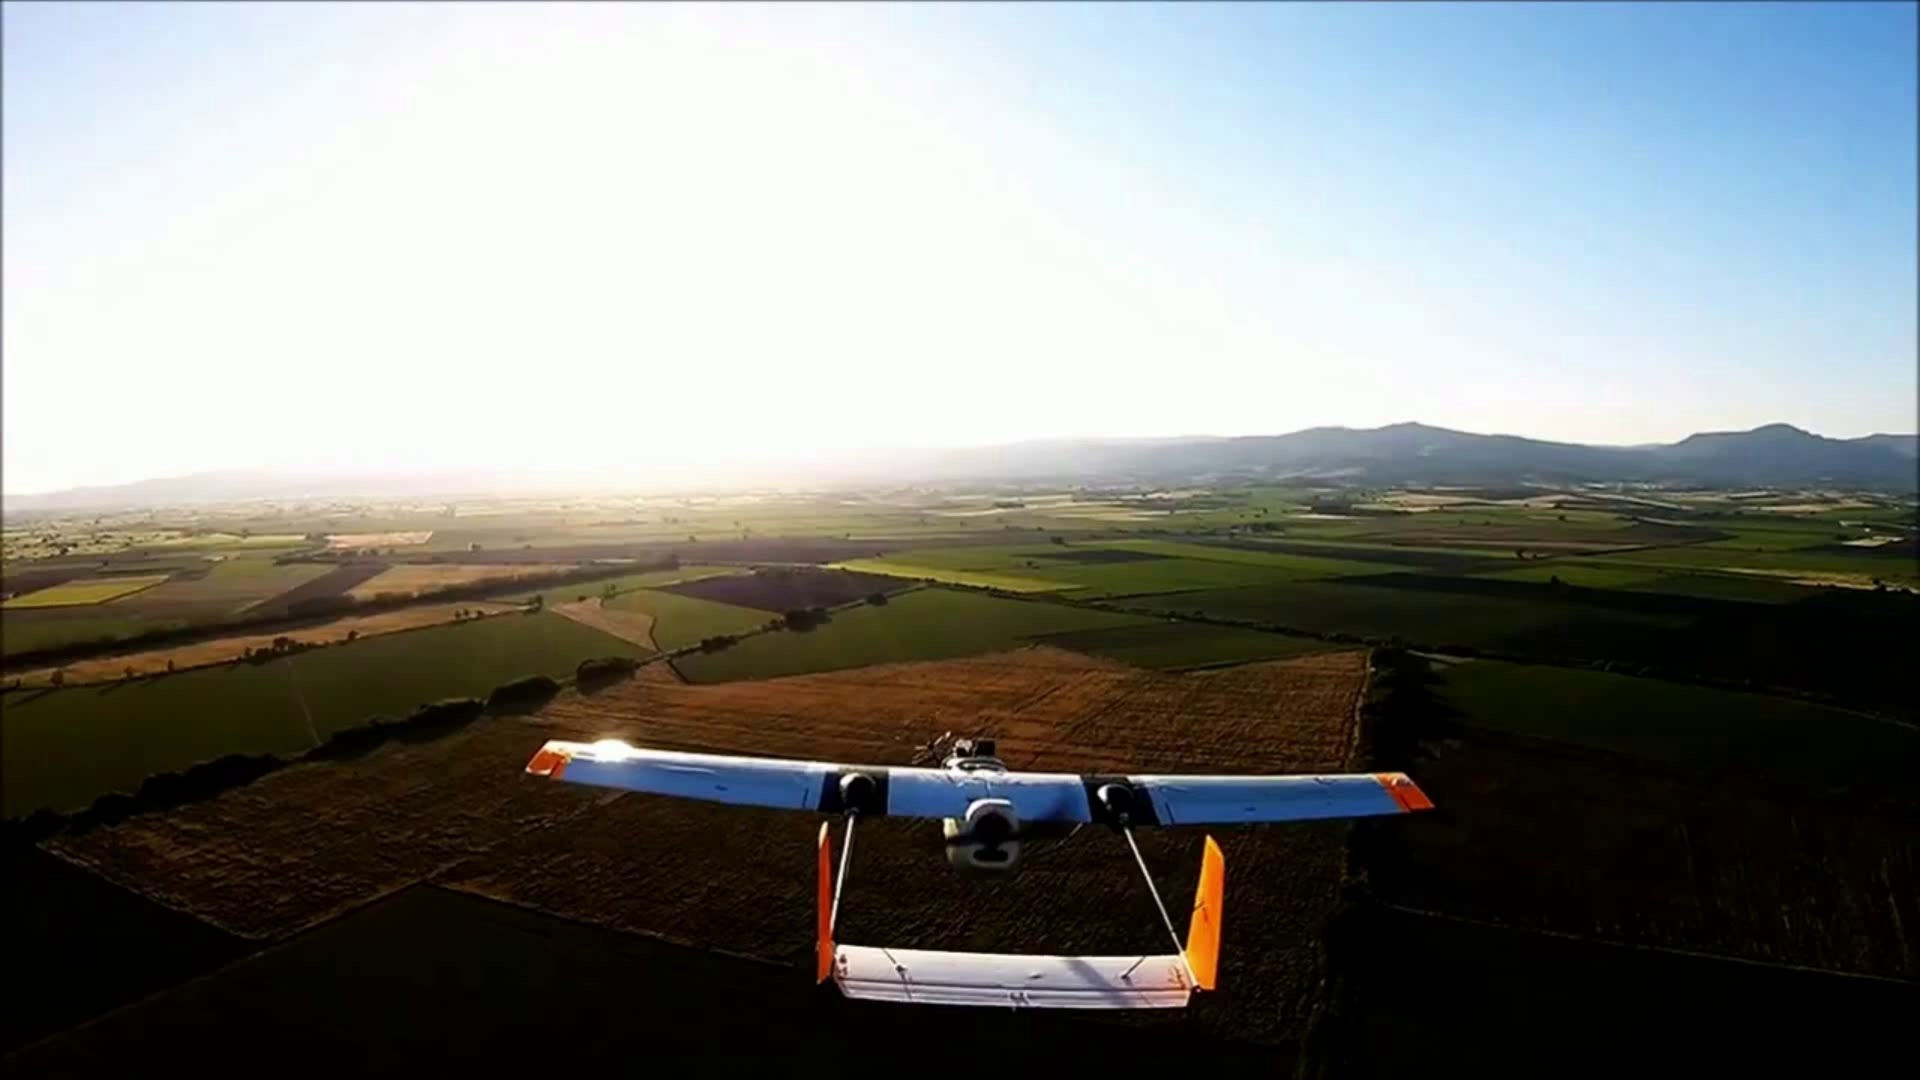airplane: (528, 743, 1435, 1012)
